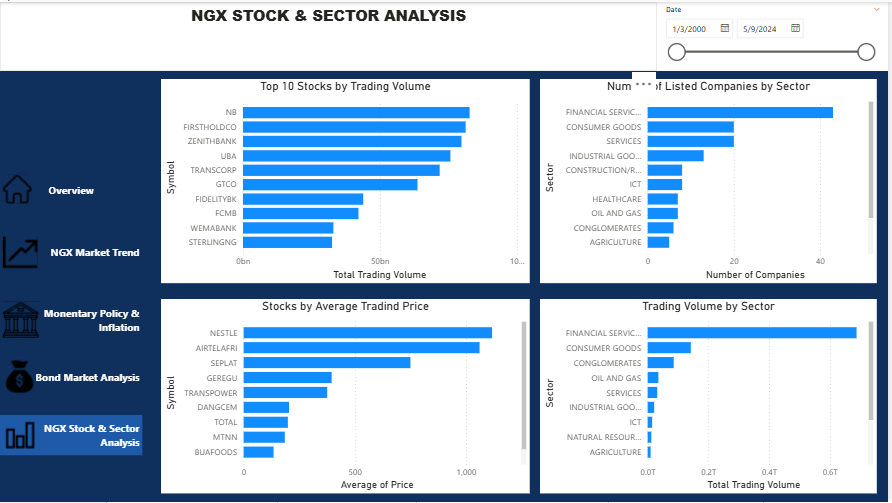

Layout of this report page (visuals, bound fields, positions):
{"tool":"powerbi","page":{"name":"NGX Stock & Sector Analysis","canvas":[1280,720],"ordinal":4},"visuals":[{"type":"clusteredBarChart","title":"Number of Listed Companies by Sector","fields":{"Category":["Fact_NGXStocks.Sector"],"Y":["Fact_NGXStocks.Number of Companies"]},"box":[777.6,111.1,485.3,293.9],"z":0},{"type":"clusteredBarChart","title":"Trading Volume by Sector","fields":{"Category":["Fact_NGXStocks.Sector"],"Y":["Fact_NGXStocks.Total Trading Volume"]},"box":[777.6,427.2,485.3,280.3],"z":1000},{"type":"slicer","fields":{"Values":["Fact_NGXStocks.Date"]},"box":[946.1,0,334.1,99.4],"z":2000},{"type":"clusteredBarChart","title":"Stocks by Average Tradind Price ","fields":{"Category":["Fact_NGXStocks.Symbol"],"Y":["Avg(Fact_NGXStocks.Price)"]},"box":[232.4,427.2,531.5,280.3],"z":3000},{"type":"clusteredBarChart","title":"Top 10 Stocks by Trading Volume ","fields":{"Category":["Fact_NGXStocks.Symbol"],"Y":["Fact_NGXStocks.Total Trading Volume"]},"box":[232.4,111.1,531.5,293.9],"z":4000},{"type":"textbox","box":[0,0,946.1,99.4],"z":5000},{"type":"actionButton","box":[0,244.4,205.1,49.6],"z":6000},{"type":"actionButton","box":[0,331.5,205.1,58.1],"z":7000},{"type":"actionButton","box":[0,427.2,205.1,59.8],"z":8000},{"type":"actionButton","box":[0,511,205.1,56.4],"z":9000},{"type":"actionButton","box":[0,594.7,205.1,58.1],"z":10000}]}

Visuals, with their boxes in screenshot pixels (x1, y1, x2, y2):
"Number of Listed Companies by Sector" clusteredBarChart: region(537, 81, 870, 283)
"Trading Volume by Sector" clusteredBarChart: region(537, 298, 870, 491)
slicer - Fact_NGXStocks.Date: region(653, 5, 882, 73)
"Stocks by Average Tradind Price " clusteredBarChart: region(162, 298, 527, 491)
"Top 10 Stocks by Trading Volume " clusteredBarChart: region(162, 81, 527, 283)
textbox: region(2, 5, 653, 73)
actionButton: region(2, 173, 143, 207)
actionButton: region(2, 232, 143, 272)
actionButton: region(2, 298, 143, 339)
actionButton: region(2, 356, 143, 395)
actionButton: region(2, 413, 143, 453)
